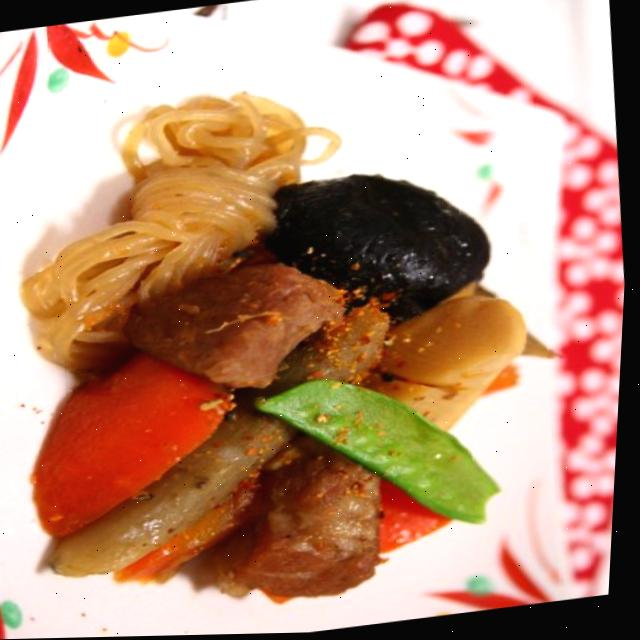鸡肉料理 含炸鸡: (0, 55, 590, 640)
